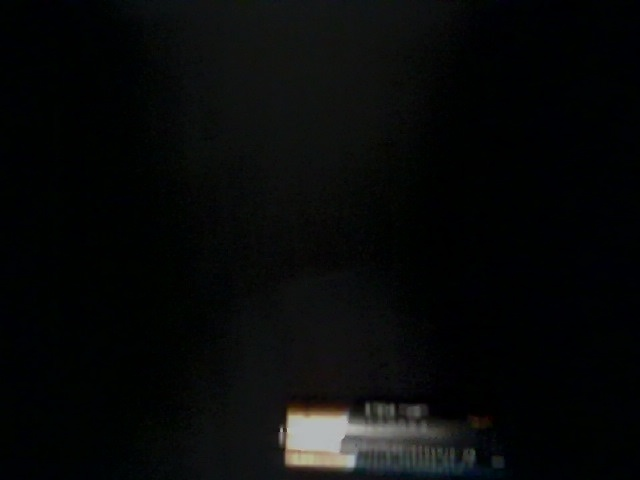QTLJ: (98, 383, 267, 480)
